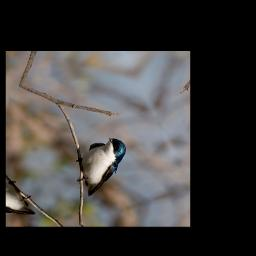Swallow: (62, 135, 142, 199)
